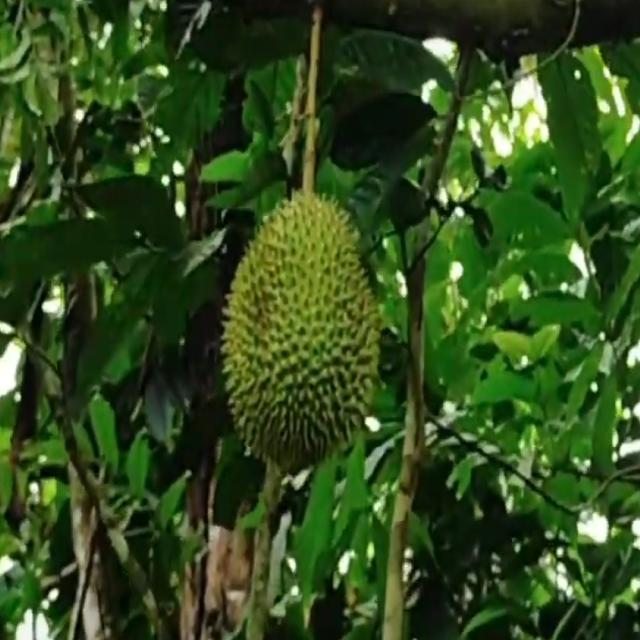immature: (222, 186, 382, 475)
